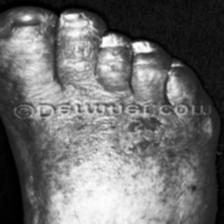Non-Cancerous Skin Condition: (6, 9, 192, 94), (44, 118, 208, 178)
